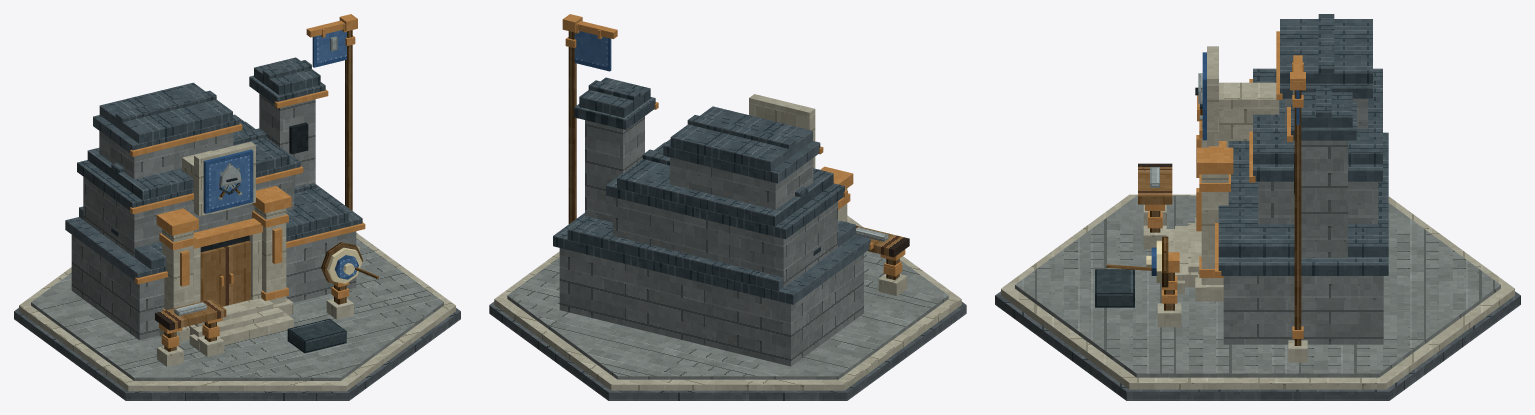
File: dwarf_rogue_mastery_hex_v1.glb
3 views of the same model, side by side, from view 1: azimuth 30°, elevation 25°; view 2: azimuth 150°, elevation 25°; view 3: azimuth 270°, elevation 25° (orthographic). The views are drawn at different scales.
Visible parts, largest first — view 1: Dwarf_Rogue_Mastery_Hex_V1_Foundation, Dwarf_Rogue_Mastery_Hex_V1_Hall, Dwarf_Rogue_Mastery_Hex_V1_Roofs, Dwarf_Rogue_Mastery_Hex_V1_Faction, Dwarf_Rogue_Mastery_Hex_V1_Training, Dwarf_Rogue_Mastery_Hex_V1_Courtyard, Dwarf_Rogue_Mastery_Hex_V1_Details, Dwarf_Rogue_Mastery_Hex_V1_Focus; view 2: Dwarf_Rogue_Mastery_Hex_V1_Hall, Dwarf_Rogue_Mastery_Hex_V1_Foundation, Dwarf_Rogue_Mastery_Hex_V1_Roofs, Dwarf_Rogue_Mastery_Hex_V1_Faction, Dwarf_Rogue_Mastery_Hex_V1_Focus, Dwarf_Rogue_Mastery_Hex_V1_Training, Dwarf_Rogue_Mastery_Hex_V1_Details; view 3: Dwarf_Rogue_Mastery_Hex_V1_Foundation, Dwarf_Rogue_Mastery_Hex_V1_Roofs, Dwarf_Rogue_Mastery_Hex_V1_Hall, Dwarf_Rogue_Mastery_Hex_V1_Faction, Dwarf_Rogue_Mastery_Hex_V1_Focus, Dwarf_Rogue_Mastery_Hex_V1_Training, Dwarf_Rogue_Mastery_Hex_V1_Courtyard, Dwarf_Rogue_Mastery_Hex_V1_Details.
Part boxes in pixels (bbox=[...]): Dwarf_Rogue_Mastery_Hex_V1_Foundation: bbox=[14, 233, 460, 400]; Dwarf_Rogue_Mastery_Hex_V1_Hall: bbox=[71, 131, 356, 342]; Dwarf_Rogue_Mastery_Hex_V1_Roofs: bbox=[65, 57, 365, 284]; Dwarf_Rogue_Mastery_Hex_V1_Faction: bbox=[182, 14, 359, 251]; Dwarf_Rogue_Mastery_Hex_V1_Training: bbox=[155, 242, 378, 366]; Dwarf_Rogue_Mastery_Hex_V1_Courtyard: bbox=[189, 298, 346, 353]; Dwarf_Rogue_Mastery_Hex_V1_Details: bbox=[159, 35, 355, 348]; Dwarf_Rogue_Mastery_Hex_V1_Focus: bbox=[259, 94, 315, 187]; Dwarf_Rogue_Mastery_Hex_V1_Hall: bbox=[559, 157, 863, 366]; Dwarf_Rogue_Mastery_Hex_V1_Foundation: bbox=[489, 215, 966, 400]; Dwarf_Rogue_Mastery_Hex_V1_Roofs: bbox=[553, 77, 873, 304]; Dwarf_Rogue_Mastery_Hex_V1_Faction: bbox=[562, 14, 815, 223]; Dwarf_Rogue_Mastery_Hex_V1_Focus: bbox=[585, 116, 644, 222]; Dwarf_Rogue_Mastery_Hex_V1_Training: bbox=[856, 225, 909, 295]; Dwarf_Rogue_Mastery_Hex_V1_Details: bbox=[565, 37, 902, 276]; Dwarf_Rogue_Mastery_Hex_V1_Foundation: bbox=[995, 194, 1520, 400]; Dwarf_Rogue_Mastery_Hex_V1_Roofs: bbox=[1215, 14, 1388, 277]; Dwarf_Rogue_Mastery_Hex_V1_Hall: bbox=[1195, 95, 1383, 344]; Dwarf_Rogue_Mastery_Hex_V1_Faction: bbox=[1195, 46, 1307, 362]; Dwarf_Rogue_Mastery_Hex_V1_Focus: bbox=[1301, 140, 1347, 257]; Dwarf_Rogue_Mastery_Hex_V1_Training: bbox=[1106, 163, 1181, 327]; Dwarf_Rogue_Mastery_Hex_V1_Courtyard: bbox=[1095, 223, 1201, 307]; Dwarf_Rogue_Mastery_Hex_V1_Details: bbox=[1147, 95, 1303, 338].
Bounding box in the file's own units: 1.59 × 1.17 × 1.84.
1 material, 1 textured.
